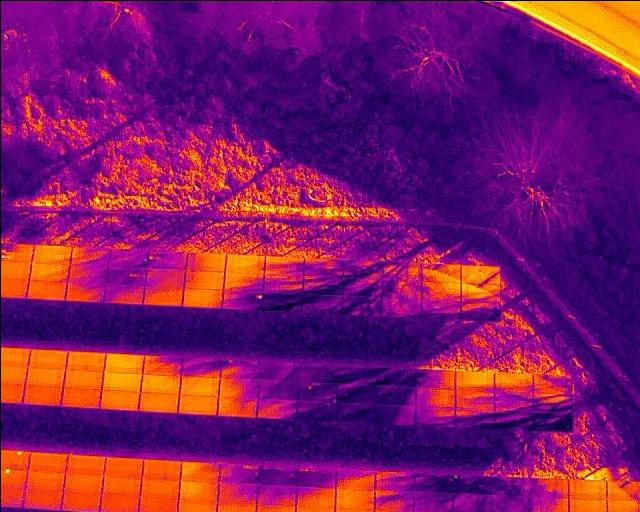Cell: (221, 291, 262, 309)
No-Anomaly: (178, 460, 218, 481), (137, 390, 179, 410), (178, 374, 220, 394), (23, 488, 61, 510), (65, 350, 106, 370), (63, 474, 102, 495), (102, 476, 140, 497), (143, 285, 182, 305), (140, 480, 179, 500), (99, 389, 140, 408), (60, 386, 101, 405), (101, 370, 142, 389), (179, 482, 217, 502), (142, 459, 180, 479), (27, 451, 67, 470), (23, 367, 65, 385), (25, 349, 67, 367), (182, 288, 221, 307), (567, 479, 606, 498), (103, 457, 142, 476), (335, 491, 374, 510), (66, 455, 103, 475), (224, 254, 265, 272), (21, 385, 62, 403), (185, 269, 223, 288), (26, 469, 64, 488), (26, 281, 66, 299), (28, 263, 68, 281), (185, 252, 225, 270), (178, 394, 217, 412), (140, 373, 181, 390), (30, 245, 70, 262), (63, 370, 103, 387), (454, 370, 493, 387), (103, 354, 142, 371), (62, 496, 101, 512), (493, 372, 532, 387), (100, 497, 138, 512), (567, 498, 606, 512)
Shadowing: (257, 459, 296, 484), (295, 462, 334, 486), (255, 484, 295, 507), (532, 410, 572, 432), (454, 407, 495, 428), (180, 354, 221, 375), (373, 490, 412, 512), (381, 278, 421, 299), (334, 469, 374, 490), (493, 387, 533, 408), (218, 483, 256, 505), (218, 461, 256, 483), (527, 477, 568, 497), (413, 472, 452, 493), (374, 469, 413, 490), (412, 491, 451, 512), (295, 487, 334, 508), (375, 404, 414, 425), (381, 297, 421, 317), (341, 296, 381, 316), (460, 263, 500, 283), (257, 398, 297, 418), (218, 377, 258, 397), (493, 409, 531, 430), (461, 282, 500, 302), (342, 276, 381, 296), (303, 274, 342, 294), (451, 491, 490, 511), (416, 387, 455, 407), (455, 387, 494, 407), (336, 384, 375, 404), (298, 381, 337, 401), (142, 353, 181, 373), (105, 265, 146, 284), (381, 261, 422, 280), (420, 299, 460, 318), (262, 292, 302, 311), (217, 396, 257, 415), (375, 384, 415, 403), (257, 379, 297, 398), (461, 302, 500, 321), (421, 281, 460, 300), (532, 373, 571, 392), (221, 356, 258, 376), (104, 284, 142, 303), (490, 476, 528, 495), (65, 283, 105, 301), (297, 401, 337, 419), (532, 392, 572, 410), (452, 475, 489, 494), (302, 295, 341, 313), (264, 274, 303, 292), (146, 267, 185, 285), (67, 265, 106, 283), (147, 250, 186, 268), (416, 368, 455, 386), (335, 405, 374, 423), (222, 273, 263, 290), (257, 361, 298, 378), (414, 408, 455, 425), (374, 367, 414, 384), (421, 263, 460, 280), (108, 249, 147, 266), (416, 369, 455, 386), (298, 364, 337, 381), (70, 248, 108, 265), (490, 495, 528, 512), (337, 366, 374, 383), (303, 259, 342, 275), (264, 257, 303, 273), (527, 498, 568, 512)
